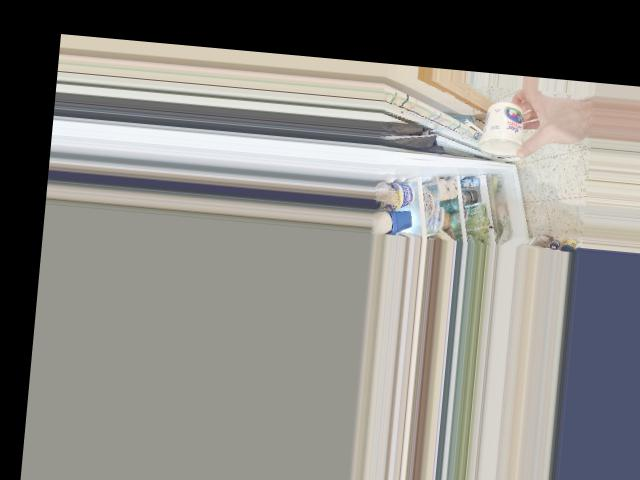cotage: (479, 97, 528, 158)
